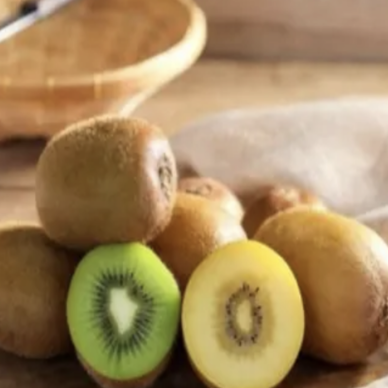kiwi: (243, 181, 387, 388), (24, 110, 188, 245)
